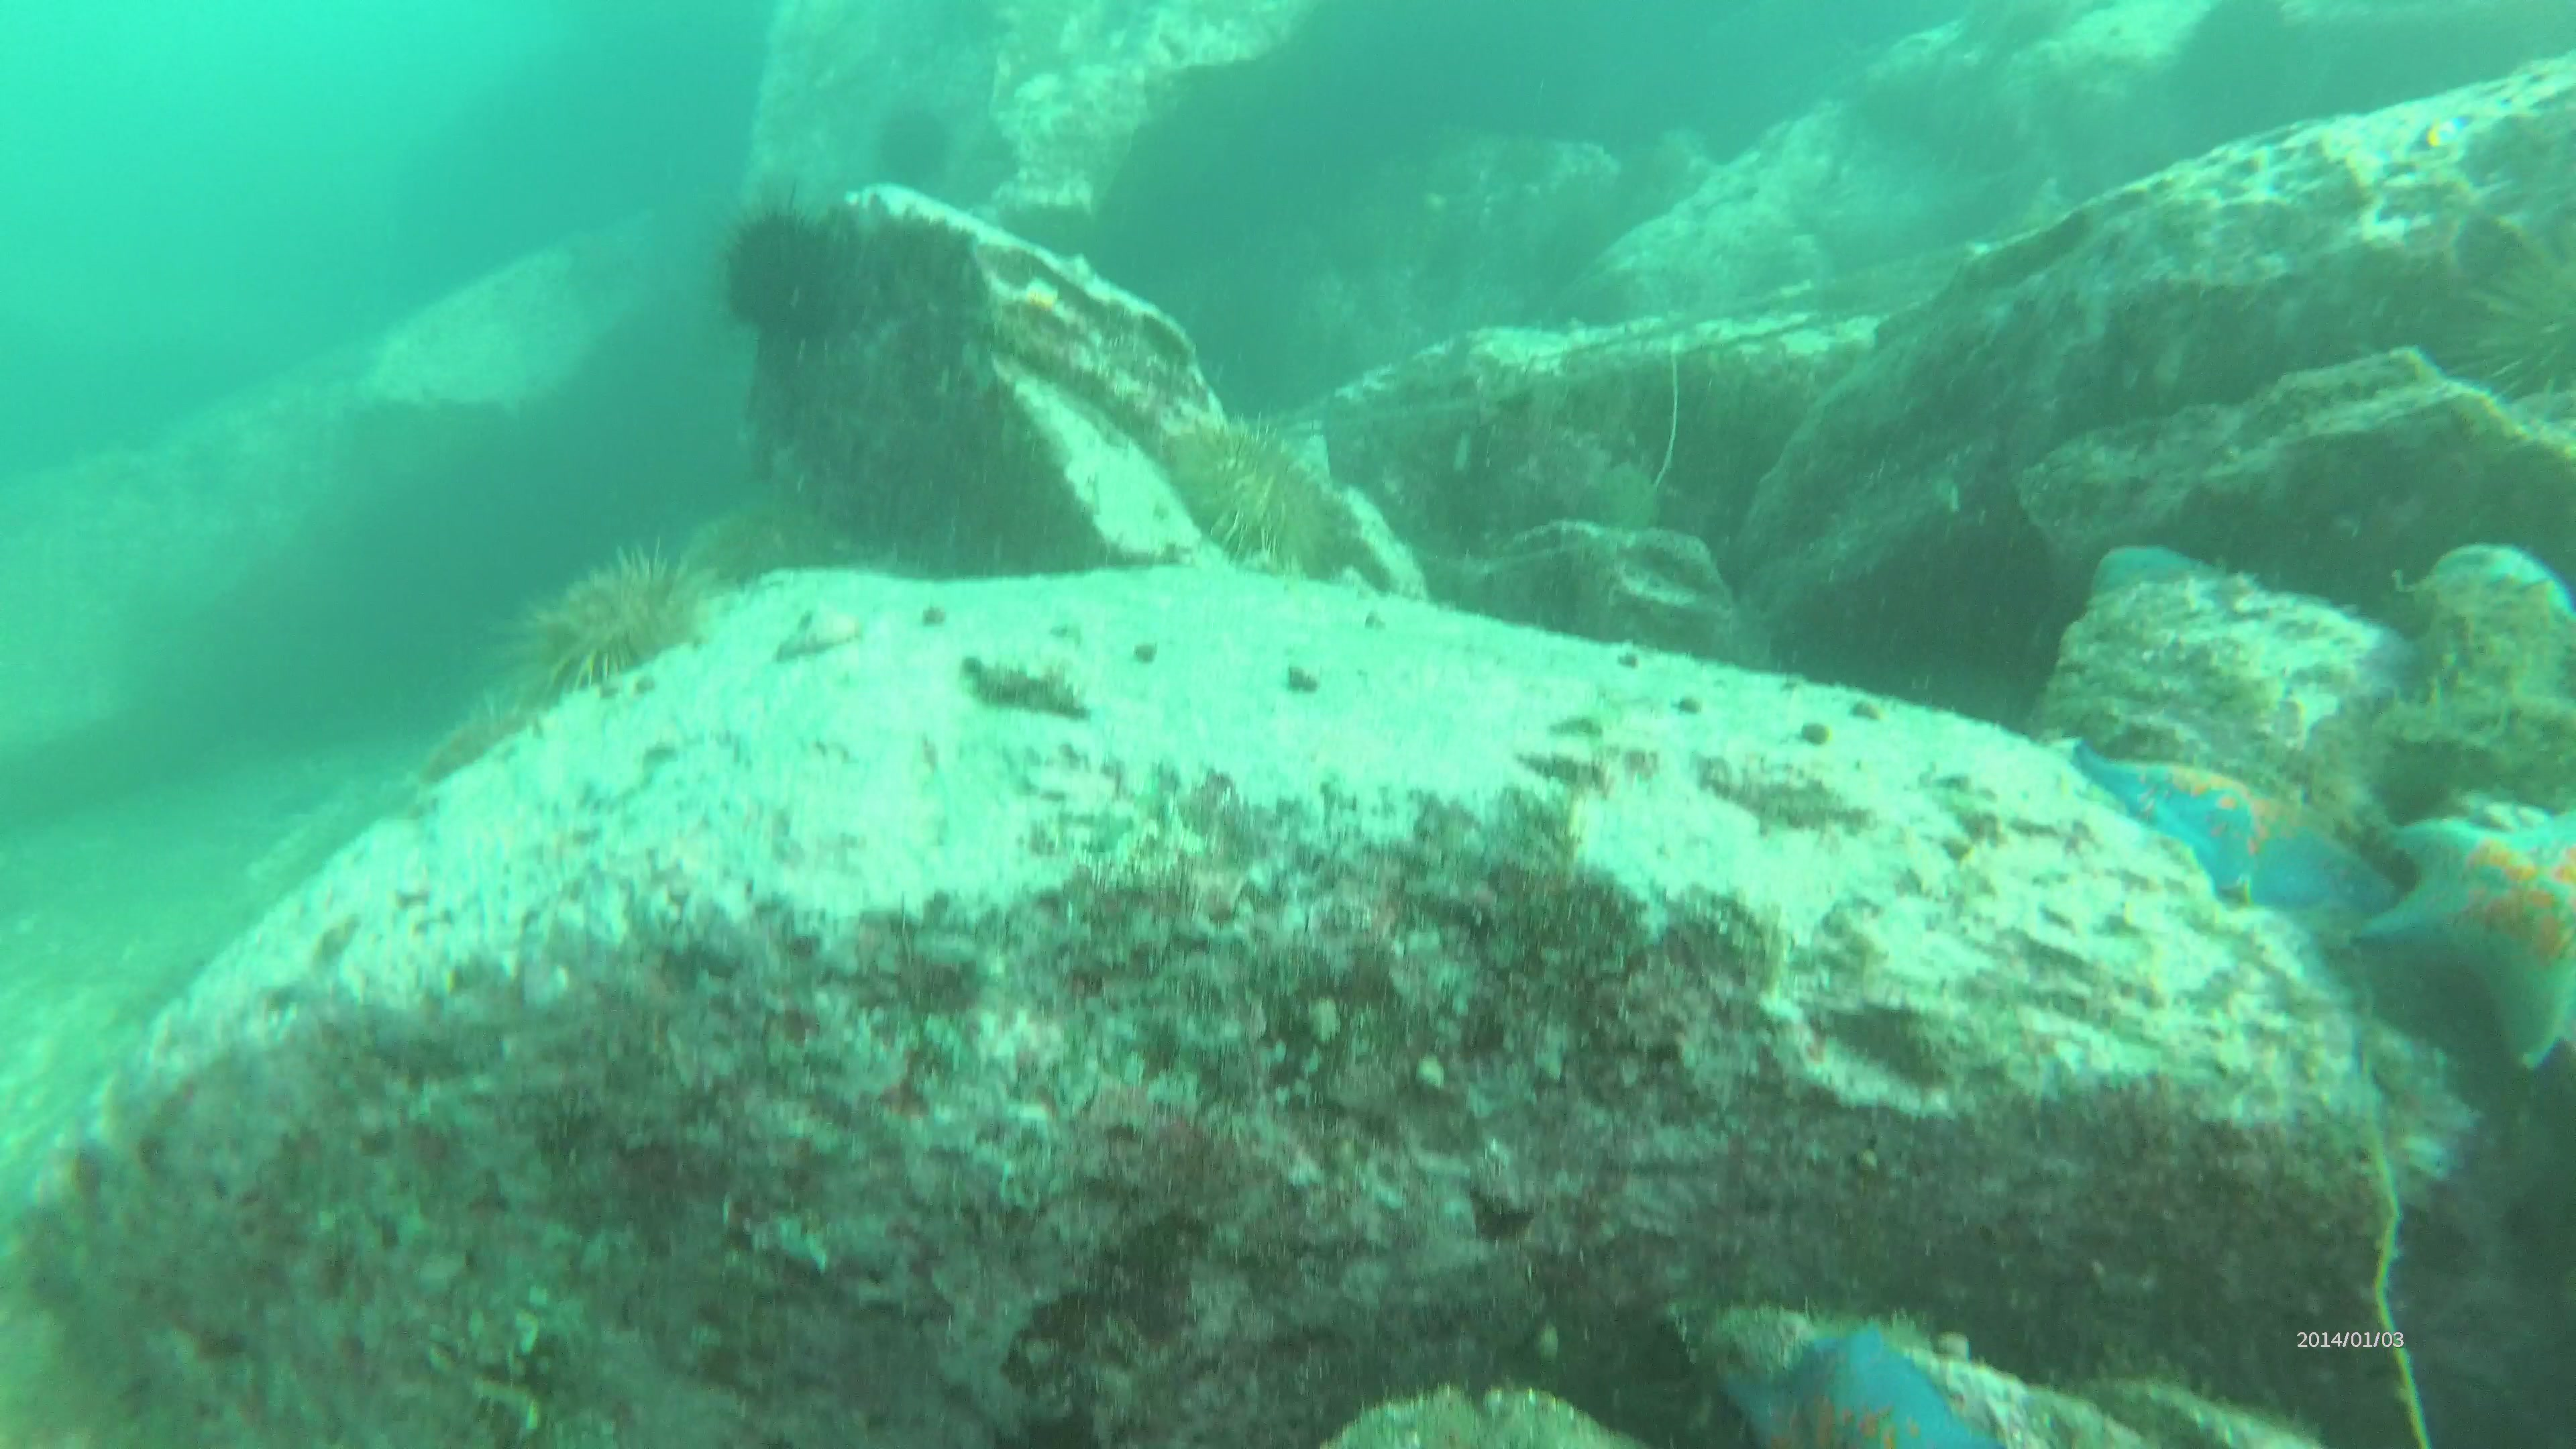echinus: (1159, 410, 1348, 566), (534, 540, 706, 688), (709, 182, 863, 347), (2456, 214, 2576, 405)
starfish: (2075, 720, 2399, 922), (2374, 809, 2576, 1072), (1688, 1307, 2059, 1449), (2426, 536, 2574, 633)
